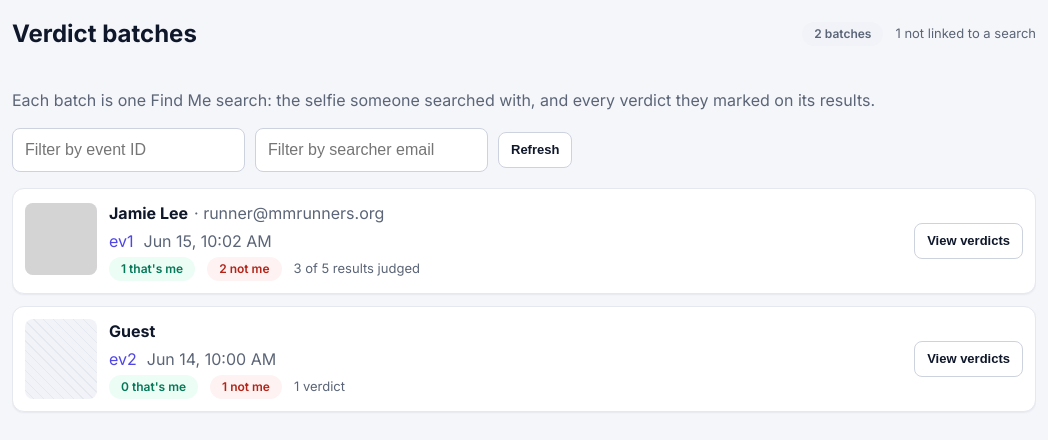
<AdminVerdicts /> › opens a batch and shows every verdict with its rank and score
This screenshot has width=1048, height=440.
Expected: the text "Jamie Lee" is shown, [109,201,188,225]
Click the button "View verdicts" in the row of "ev1": (969, 241) [914,223,1023,259]
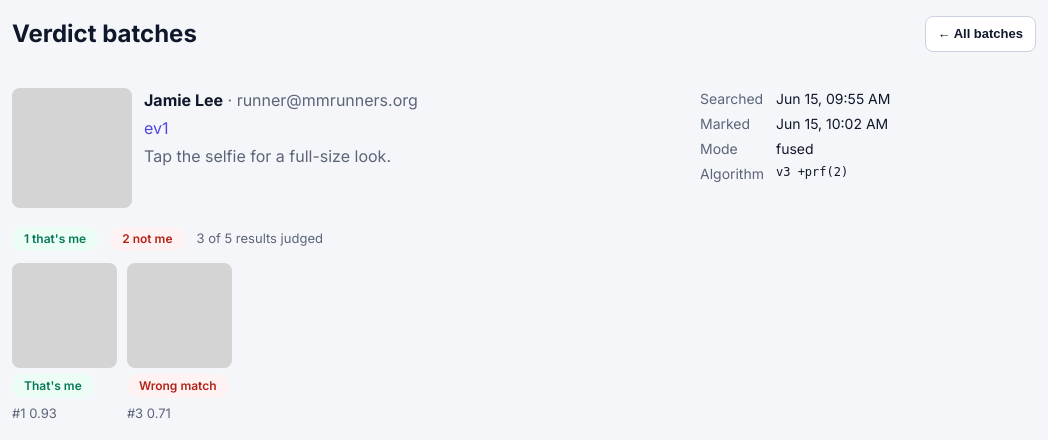
Expected: the text "fused" is shown, [776,140,814,157]
Expected: the text "#1 0.93" is shown, [12,404,57,423]
Expected: the text "#3 0.71" is shown, [127,404,171,423]
